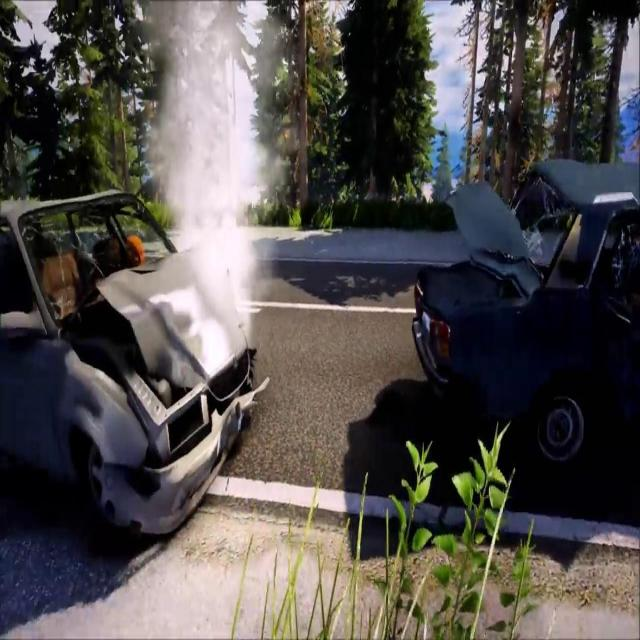severe: (1, 162, 276, 548), (411, 142, 639, 470)
